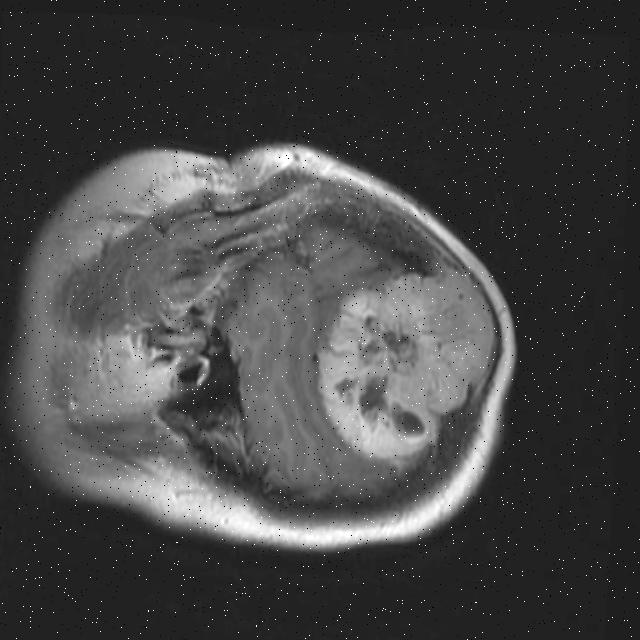Meningioma: (306, 259, 502, 470)
